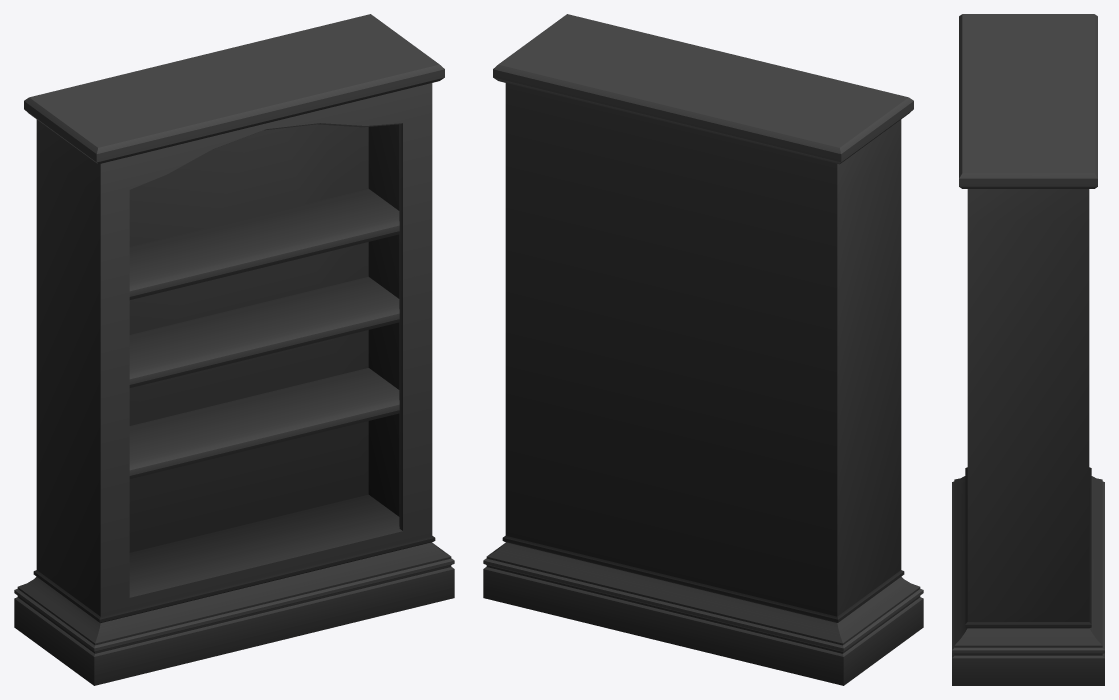
File: Bookshelf.fbx
The picture shows the model from 3 angles, left to right: view 1: azimuth 30°, elevation 25°; view 2: azimuth 150°, elevation 25°; view 3: azimuth 270°, elevation 25°; orthographic projection. The views are drawn at different scales.
Parts seen in each view (by area): view 1: bookshelf; view 2: bookshelf; view 3: bookshelf.
Boxes of the visible parts, x1,y1,x2,y2 form: bookshelf: [14, 14, 454, 685]; bookshelf: [483, 14, 923, 685]; bookshelf: [952, 14, 1104, 685].
Bounding box in the file's own units: 1.33 × 1.88 × 0.5125.
